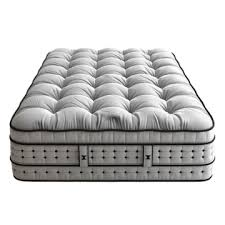bed-matress: (9, 47, 218, 184)
